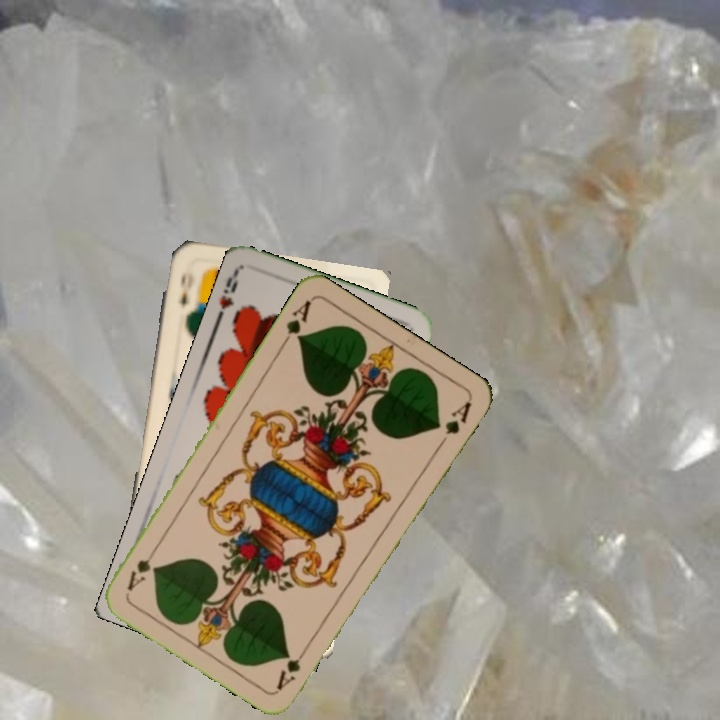EO: (176, 267, 196, 309)
GA: (272, 640, 312, 693), (277, 296, 314, 350)
H9: (212, 267, 241, 324)
